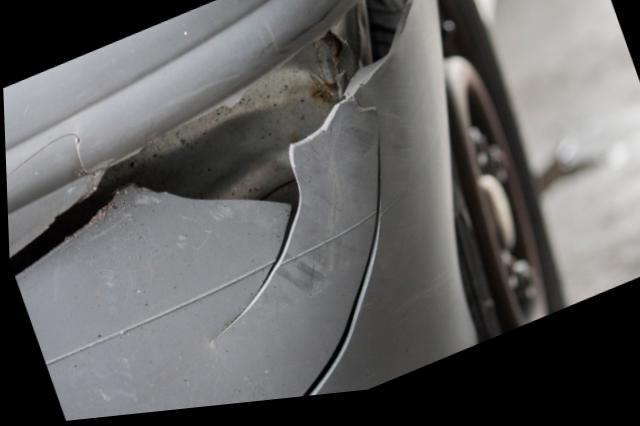crack: (5, 0, 417, 403)
